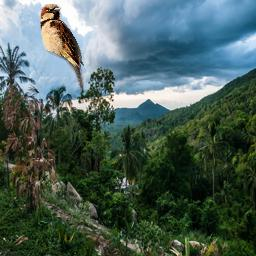Swallow: (39, 4, 84, 91)
